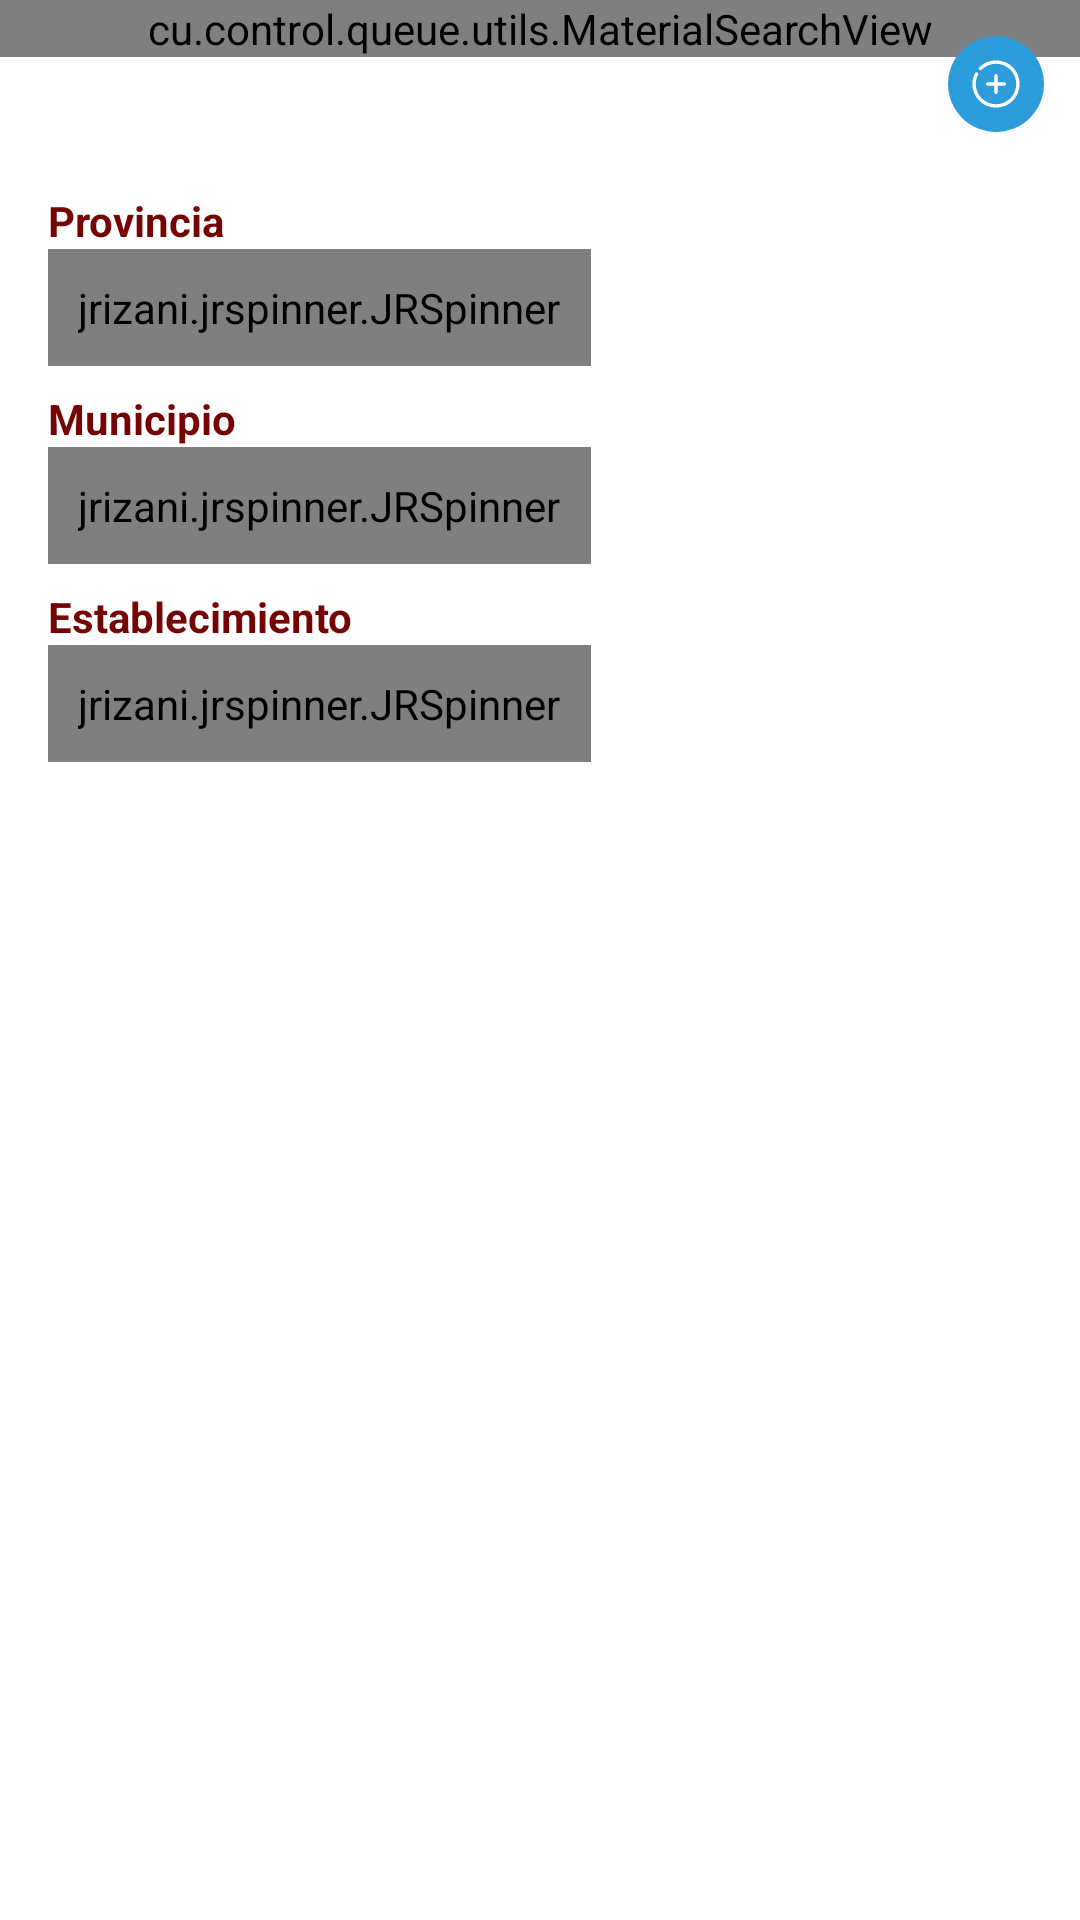

Named icons in this screenshot (1080×1920) and their centers, point (x, y):
add queue: point (996, 84)
